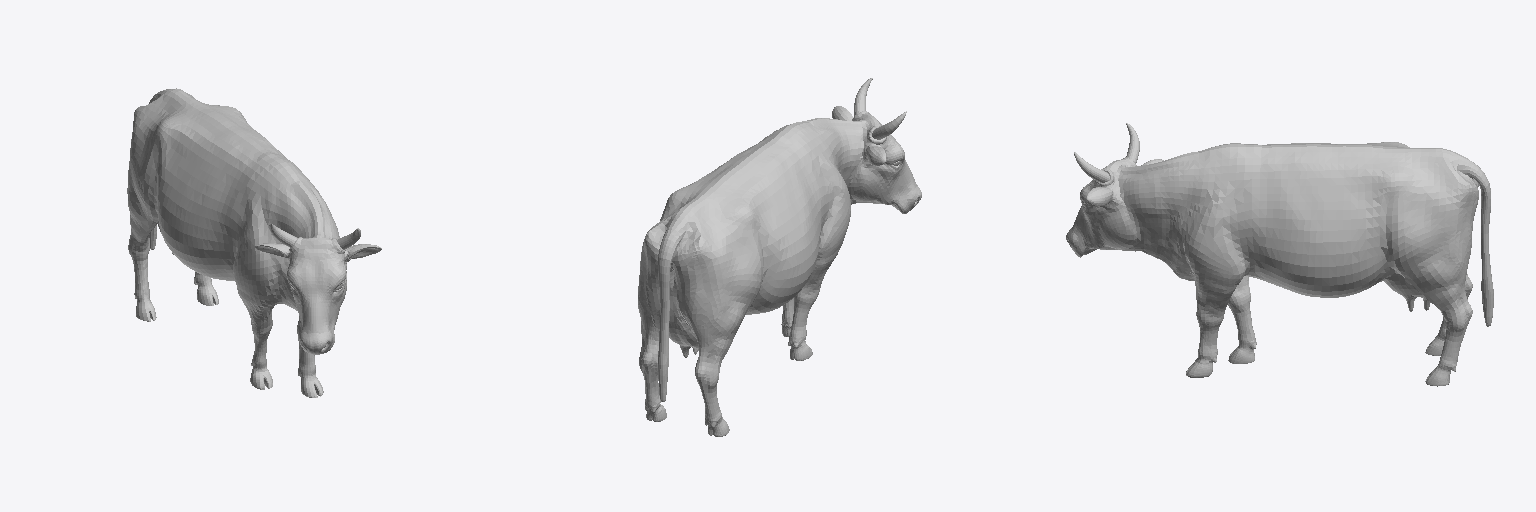
File: cow.obj
3 views of the same model, side by side, from view 1: azimuth 30°, elevation 25°; view 2: azimuth 150°, elevation 25°; view 3: azimuth 270°, elevation 25° (orthographic).
Visible parts, largest first — view 1: cow.1; view 2: cow.1; view 3: cow.1.
Boxes of the visible parts, <box> form: cow.1: <box>127,88,381,397</box>; cow.1: <box>638,78,921,436</box>; cow.1: <box>1066,123,1493,386</box>.
Size of the model in its own units: 1.5 by 2.56 by 4.46.